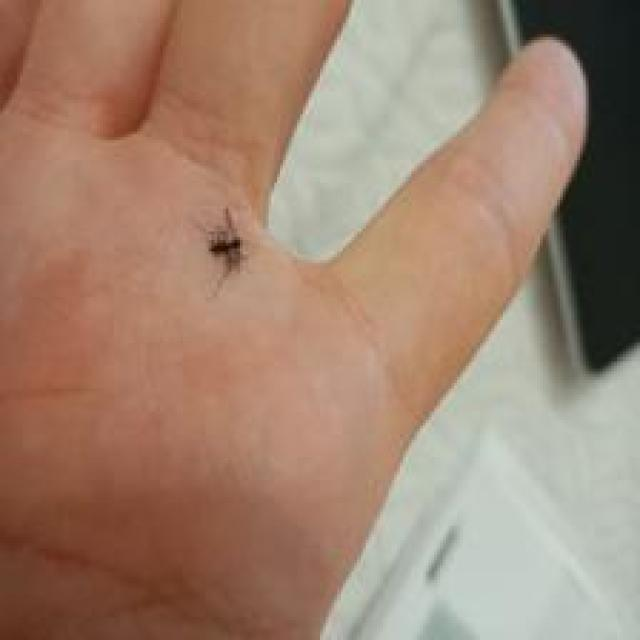Aedes albopictus: (204, 204, 247, 276)
